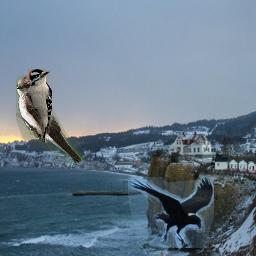Crow: (128, 177, 214, 248)
Swallow: (16, 75, 84, 164)
Woodpecker: (26, 69, 52, 143)
